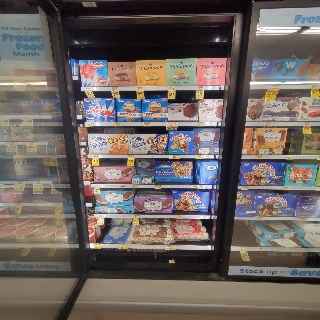All PRICE TAGS: (166, 122, 178, 127), (166, 245, 176, 250), (118, 244, 128, 249), (22, 115, 32, 120), (268, 85, 280, 89), (33, 181, 44, 185), (26, 142, 37, 146), (15, 181, 25, 185), (6, 142, 16, 146), (169, 155, 179, 159), (92, 244, 101, 248), (167, 86, 176, 90), (84, 87, 92, 91), (111, 87, 119, 91), (136, 86, 144, 90), (196, 86, 204, 90), (85, 122, 93, 126), (143, 122, 151, 126), (197, 122, 205, 126), (92, 154, 100, 158), (198, 185, 205, 189), (176, 215, 183, 219), (241, 186, 248, 190), (256, 155, 263, 159), (265, 122, 272, 126), (239, 247, 246, 251), (311, 85, 318, 89), (114, 122, 121, 126), (196, 155, 203, 159), (119, 184, 128, 187), (97, 214, 105, 217), (283, 186, 289, 190), (287, 155, 293, 159), (304, 122, 310, 126), (127, 155, 135, 158), (93, 184, 101, 187), (155, 185, 162, 188), (56, 203, 61, 207), (133, 215, 139, 218), (132, 185, 138, 188), (300, 218, 306, 221), (257, 217, 263, 220), (315, 187, 320, 190), (16, 203, 21, 206)
